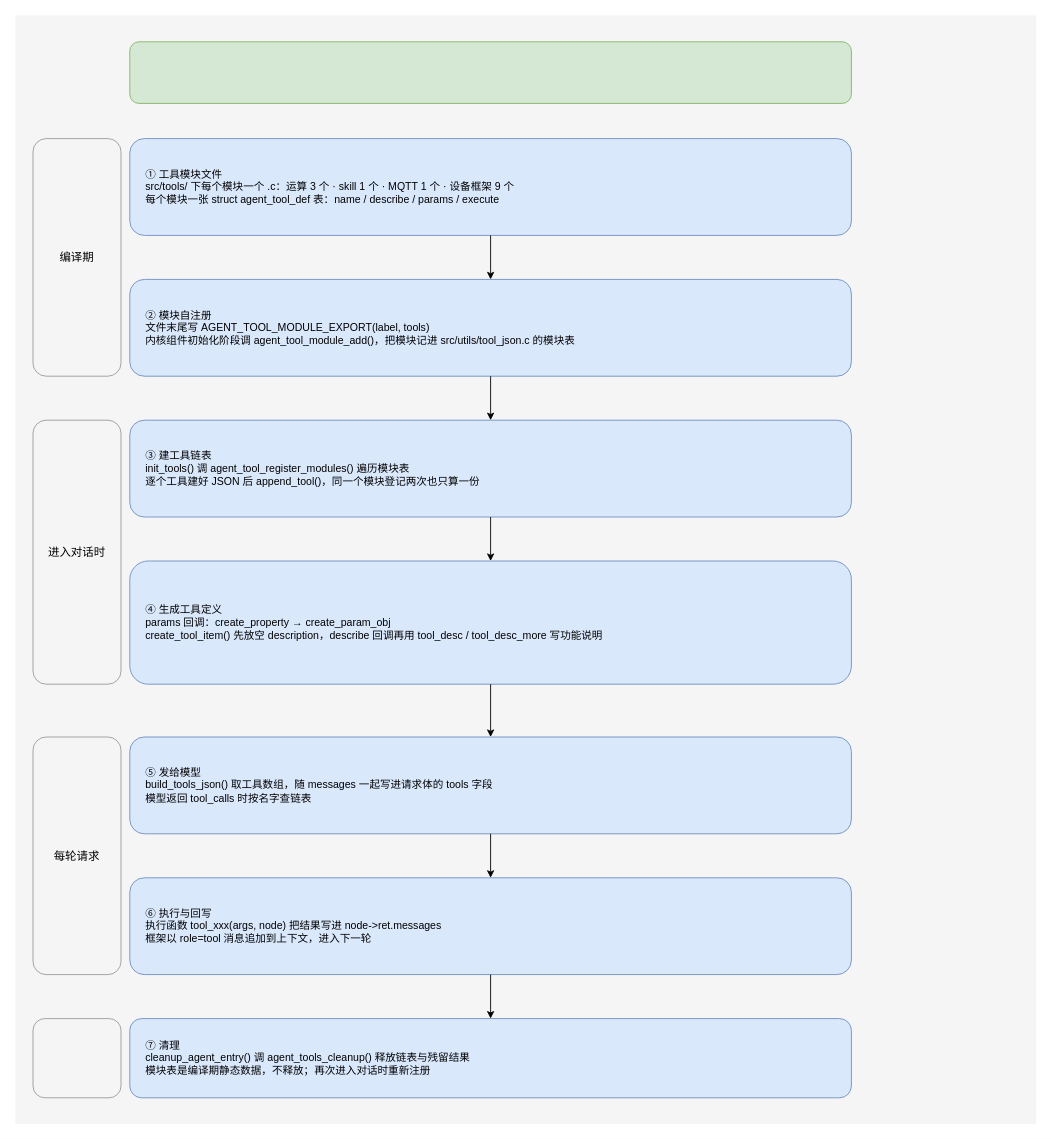
Image size: 1051x1139. Some labels were removed from this diagram. Here are the shapes that lost their labels. From the top down, the centre of each, then its label:
(490,72): 全部模块打开时注册 40 个工具：设备框架 29 · 运算 3 · skill 1 · MQTT 7 模块表容量 24 项，占用 14 项
(76,1058): 退出时
